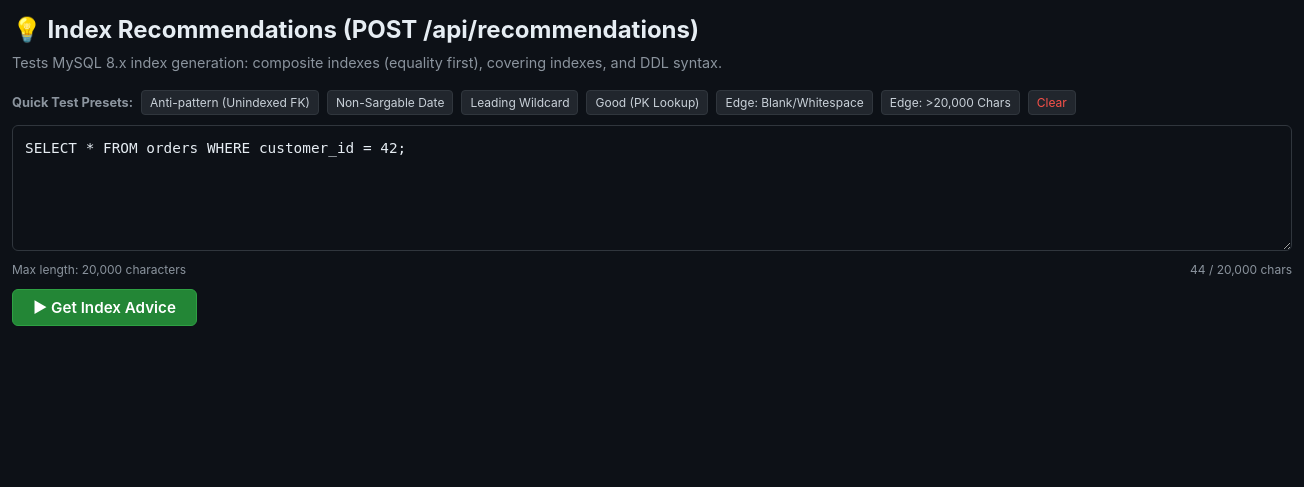
Test case: RecommendationsPage Component › handles 422 Unprocessable Entity validation error
Click the button "▶ Get Index Advice" at (104, 308), box [12,289,197,326]
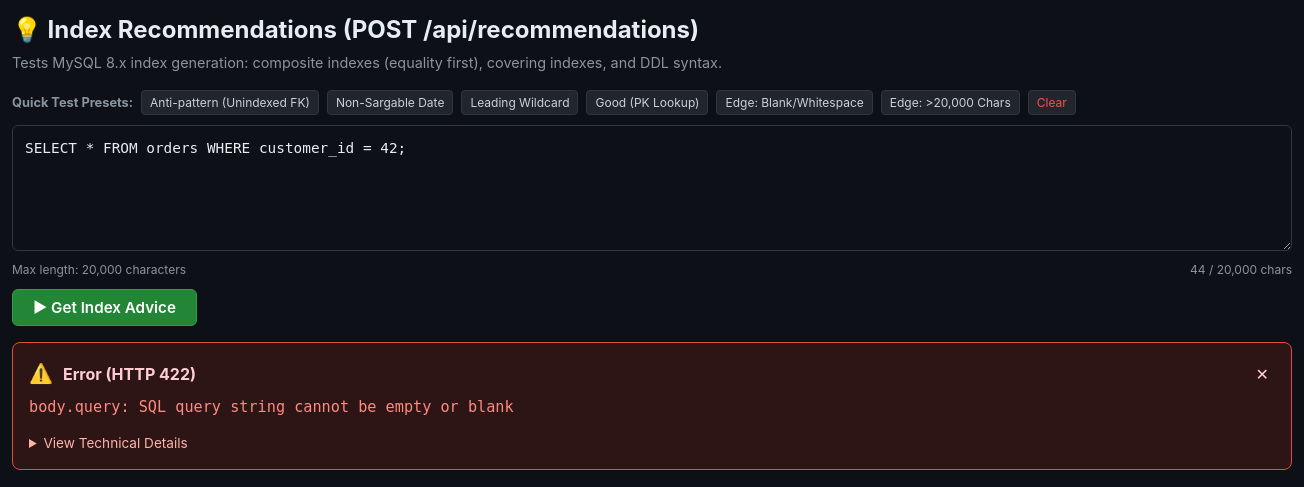
Expected: the text "body.query: SQL query string cannot be empty or blank" is shown, [29,398,514,416]
Expected: the text "Error (HTTP 422)" is shown, [63,362,196,386]
